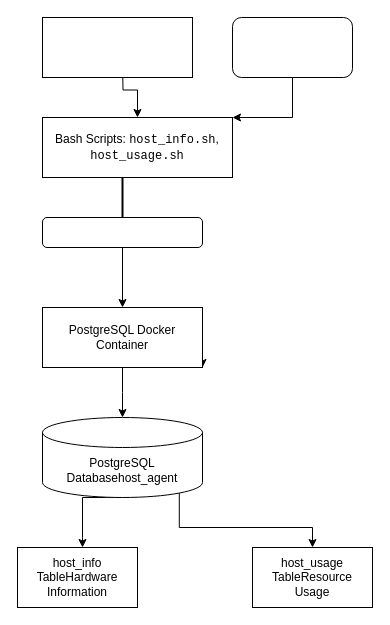
This 390x625 diagram has some shape labels left out. Each missing label, with the centre of its shape:
"collects and sends data using psql" belongs at point (122, 232).
"Cron Job Runs host_usage.sh Every 1 minute" belongs at point (292, 47).
"Linux VM Host System" belongs at point (117, 47).
